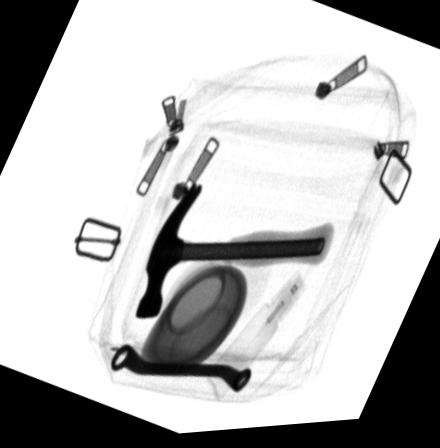Hammer: (137, 182, 335, 322)
Wrench: (111, 345, 252, 397)
